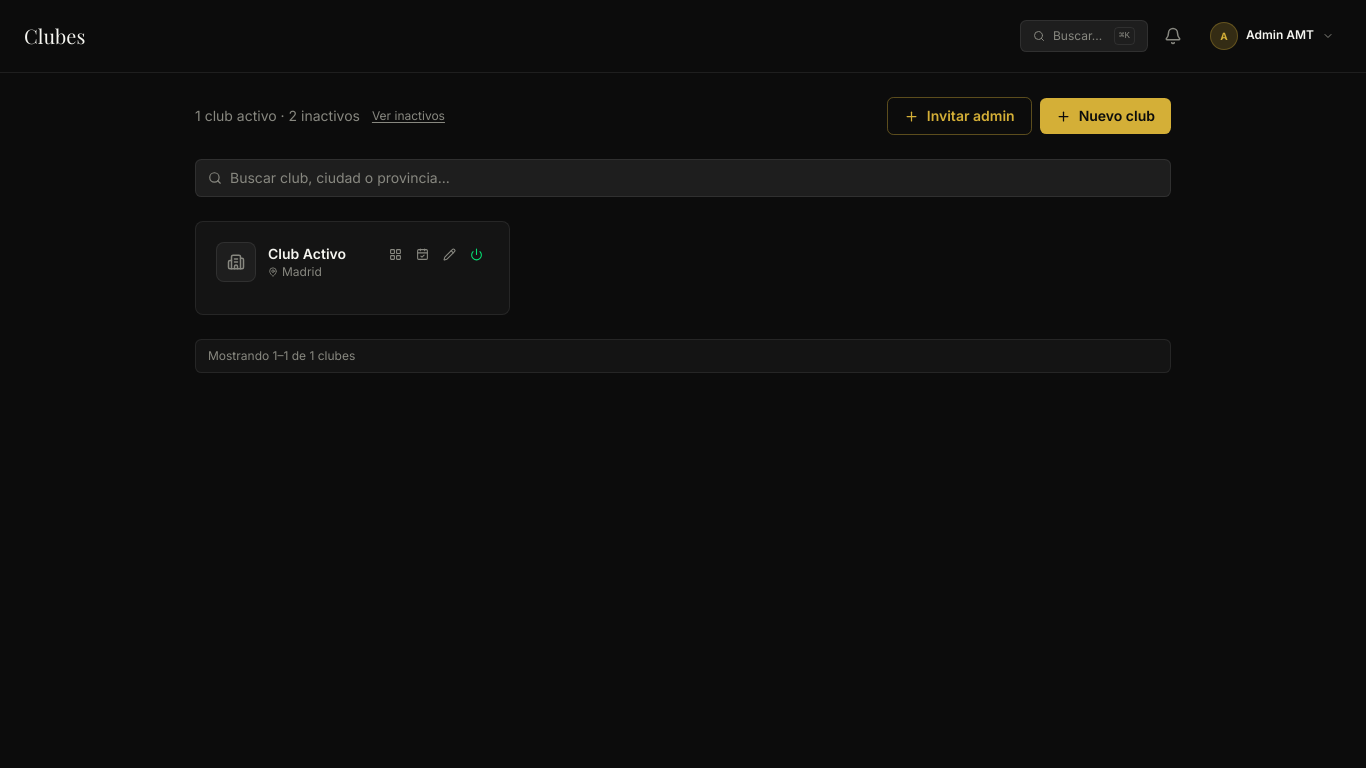
Test case: ClubesPage — estado de los clubes › Cancelar no desactiva nada
This screenshot has width=1366, height=768.
Click the button named "Desactivar club".
click(476, 254)  # box [464,242,489,267]
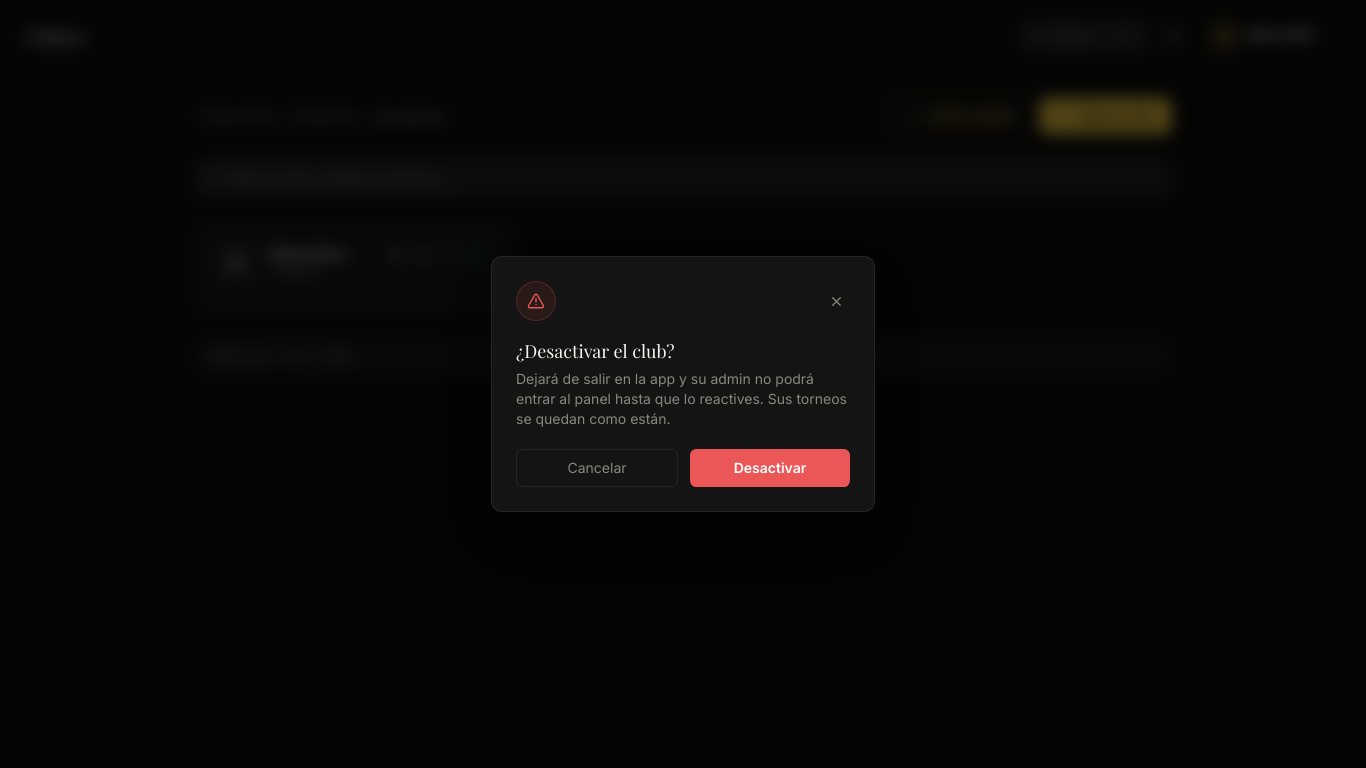
Click the button "Cancelar".
click(597, 468)  # box [516,449,678,487]
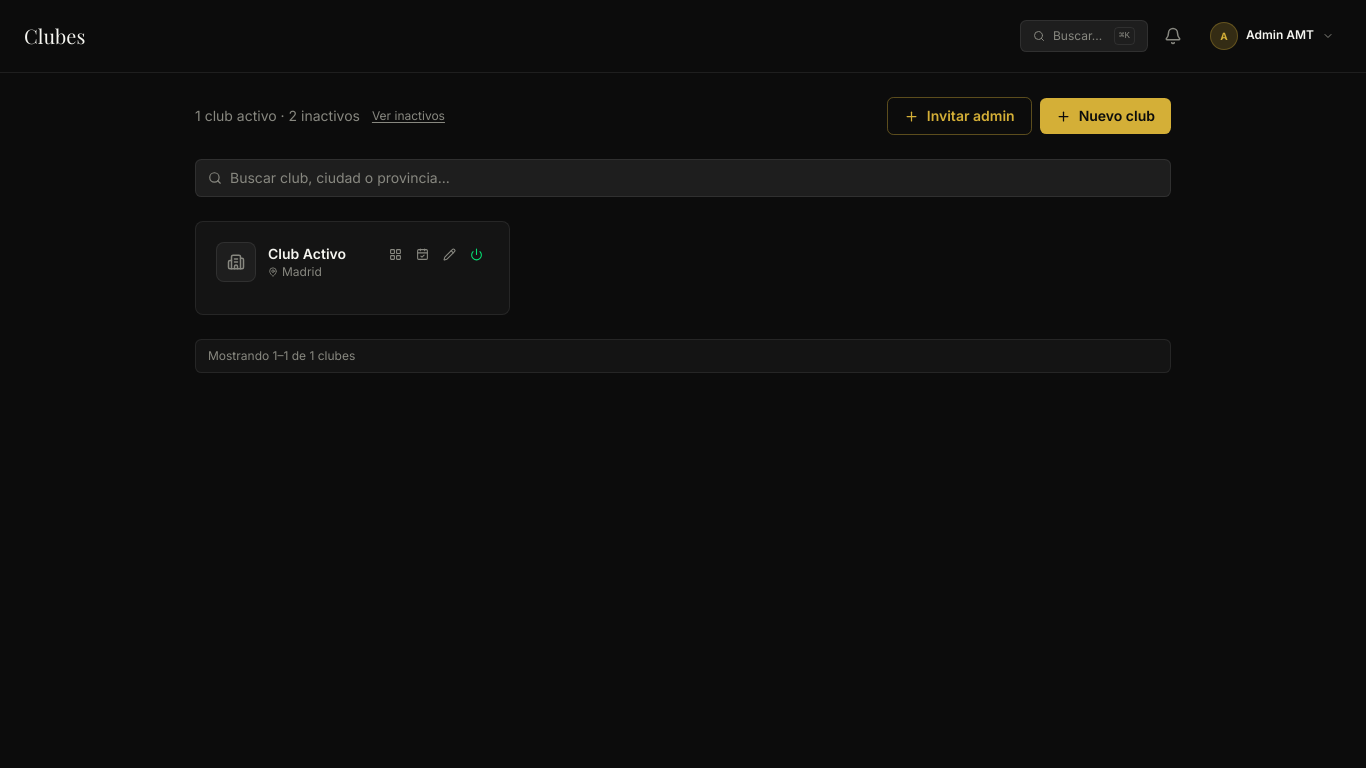
Result: the heading "¿Desactivar el club?" is gone
